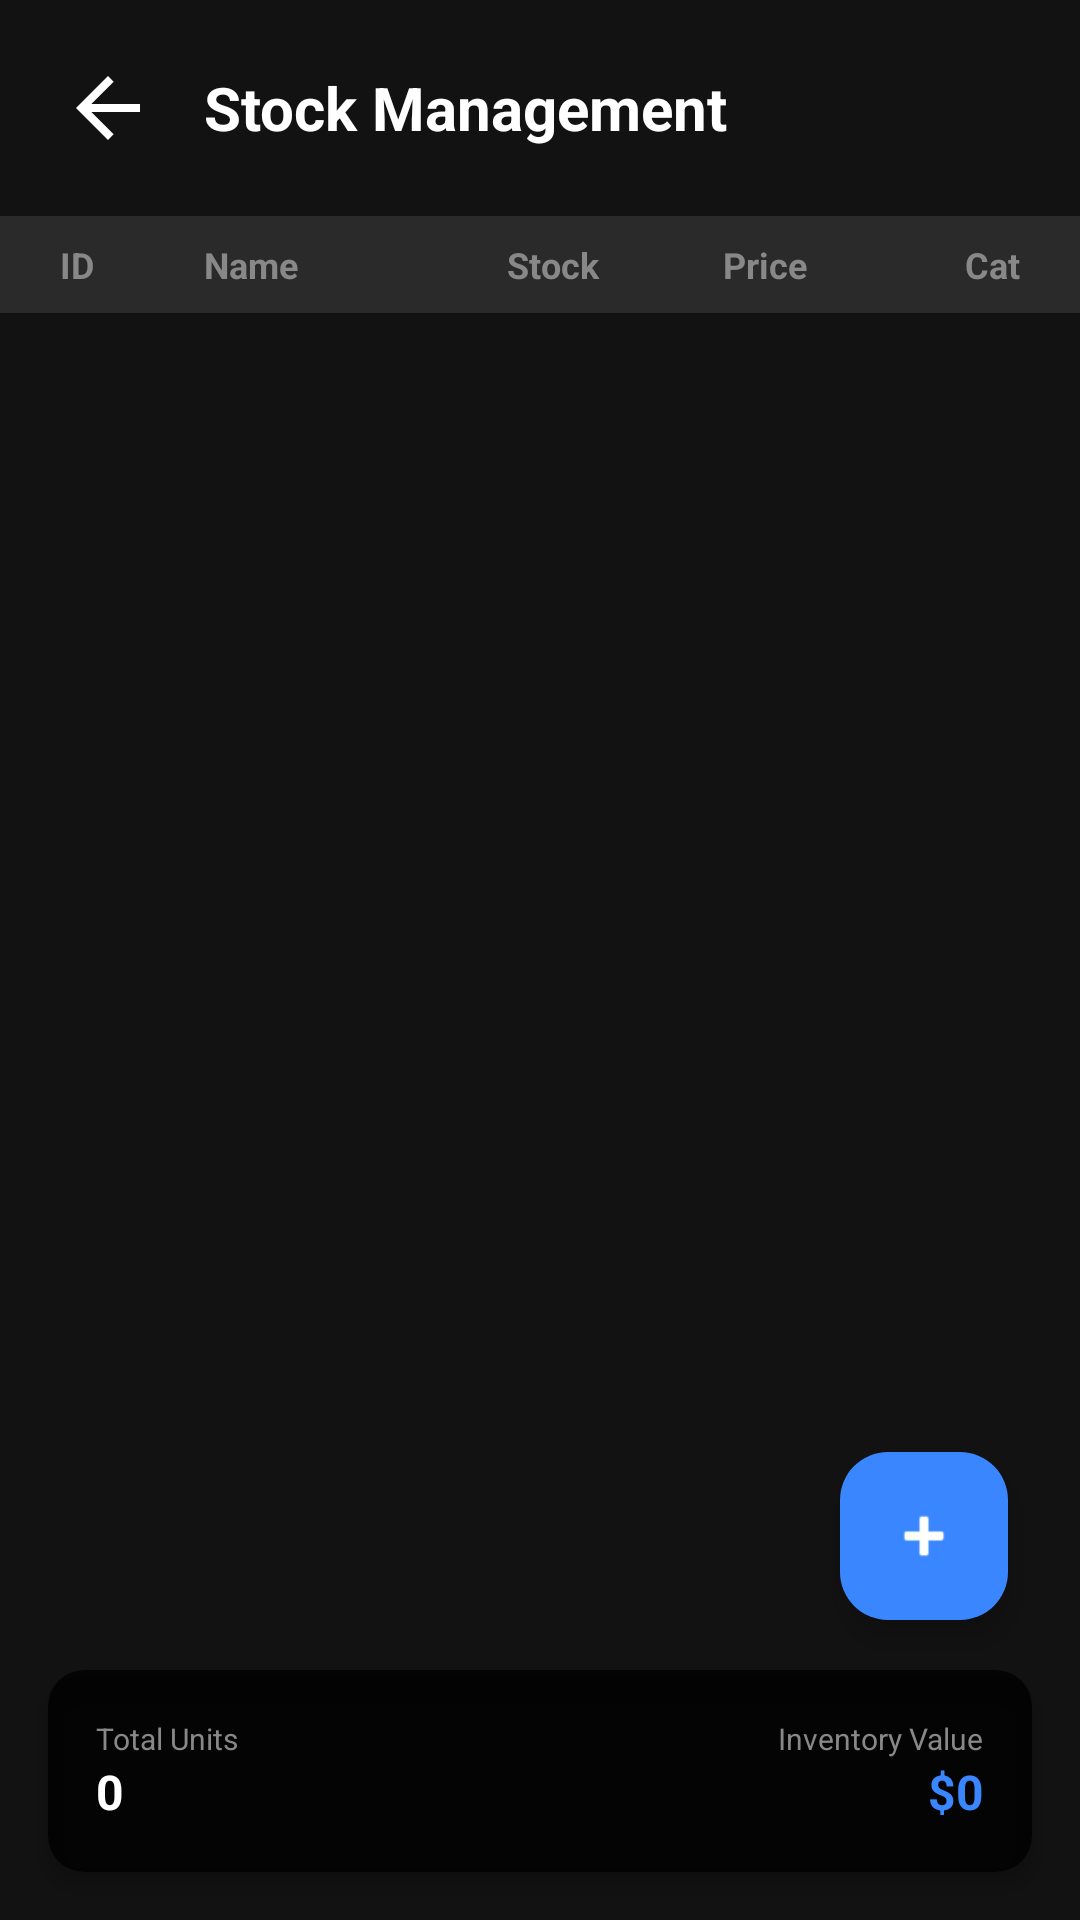

Icon click points for this 1080px x 1920px phone screenshot, format (x,y):
Add Product: (924,1536)
Back: (108,108)
